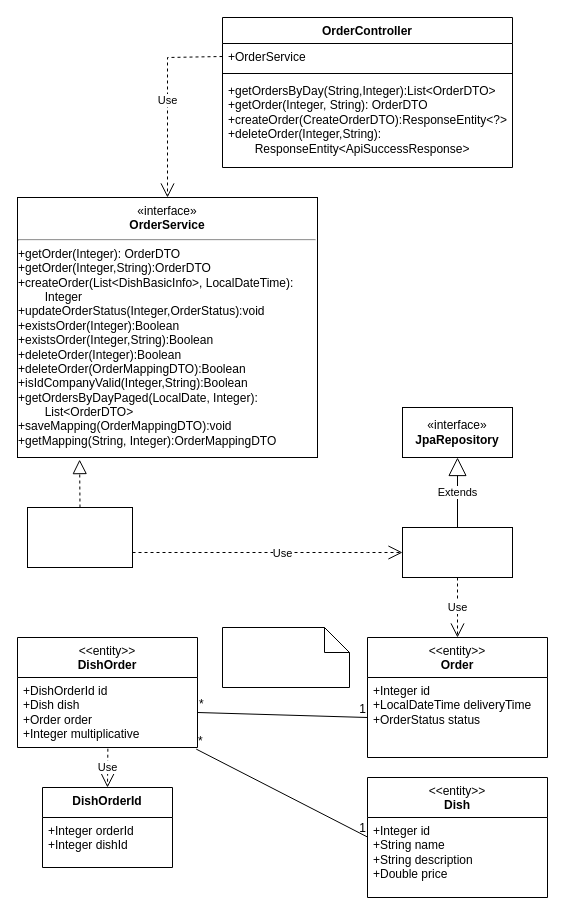
Some shapes in this 565 by 918 pixel diagram are drawn without their labels. The shapes that lost their labels are listed below. From the top down, each one's centre as x and y in pixels, then its label:
At point (79, 537): "OrderServiceImpl +OrderDAO".
At point (457, 552): "«interface» OrderDAO".
At point (286, 657): "Bidirectional mapping required by JPA".
